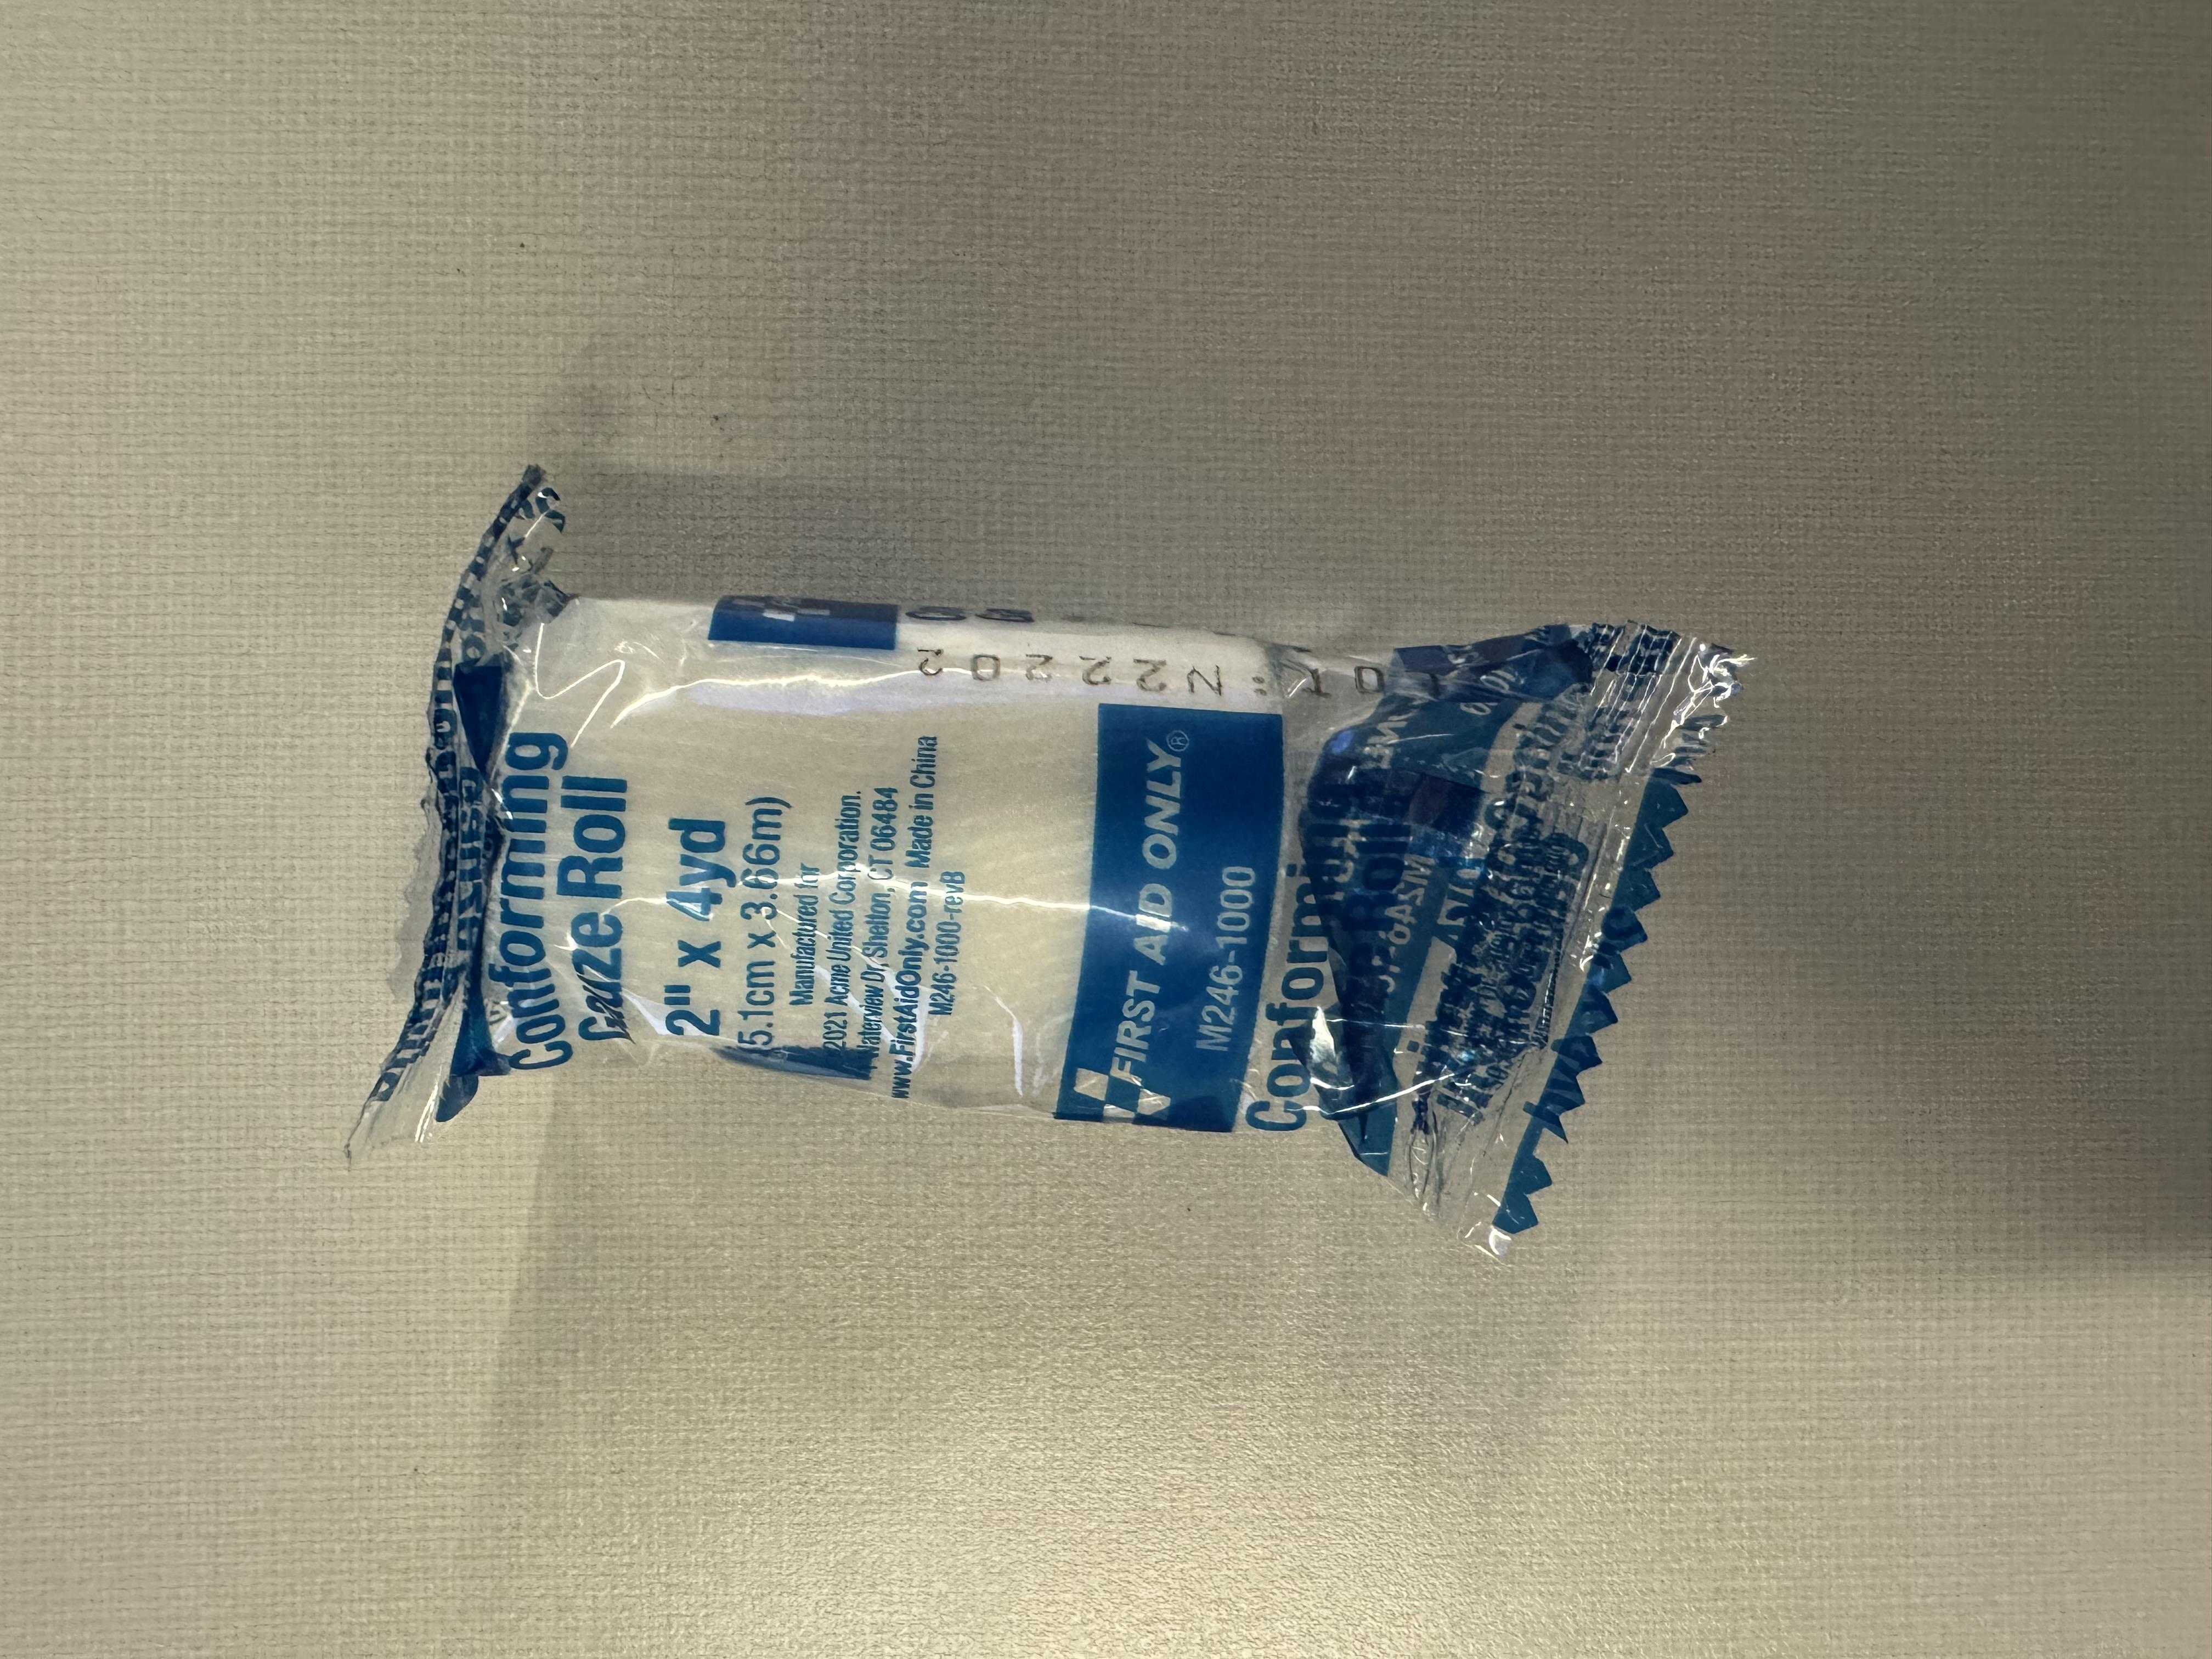gauze: (315, 218, 1939, 1337)
